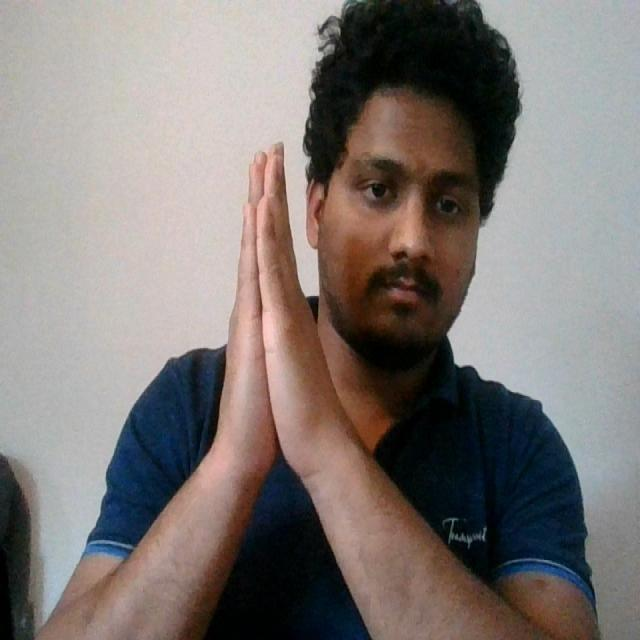Thanks: (199, 131, 369, 496)
